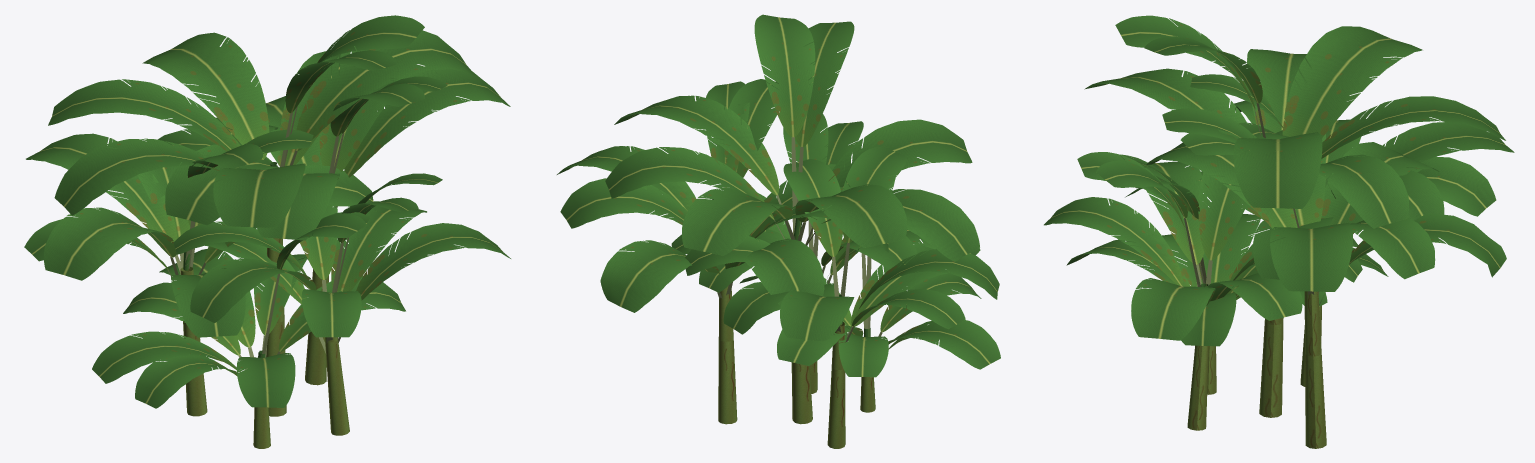
The model's file is yh_bajiao.glb.
3 views of the same model, side by side, from view 1: azimuth 30°, elevation 25°; view 2: azimuth 150°, elevation 25°; view 3: azimuth 270°, elevation 25° (orthographic). The views are drawn at different scales.
Parts seen in each view (by area): view 1: yh_bajiao_芭蕉叶, yh_bajiao_芭蕉茎, yh_bajiao_茎; view 2: yh_bajiao_芭蕉叶, yh_bajiao_芭蕉茎, yh_bajiao_茎; view 3: yh_bajiao_芭蕉叶, yh_bajiao_芭蕉茎, yh_bajiao_茎.
Boxes of the visible parts, x1,y1,x2,y2 form: yh_bajiao_芭蕉叶: (24, 15, 510, 408); yh_bajiao_芭蕉茎: (180, 238, 349, 448); yh_bajiao_茎: (167, 106, 348, 369); yh_bajiao_芭蕉叶: (557, 14, 1000, 377); yh_bajiao_芭蕉茎: (718, 286, 875, 448); yh_bajiao_茎: (717, 137, 882, 343); yh_bajiao_芭蕉叶: (1044, 15, 1514, 346); yh_bajiao_芭蕉茎: (1187, 229, 1326, 448); yh_bajiao_茎: (1182, 103, 1325, 304).
Size of the model in its own units: 1.25 by 1 by 1.07.
Materials: 3 (2 with a texture image).
